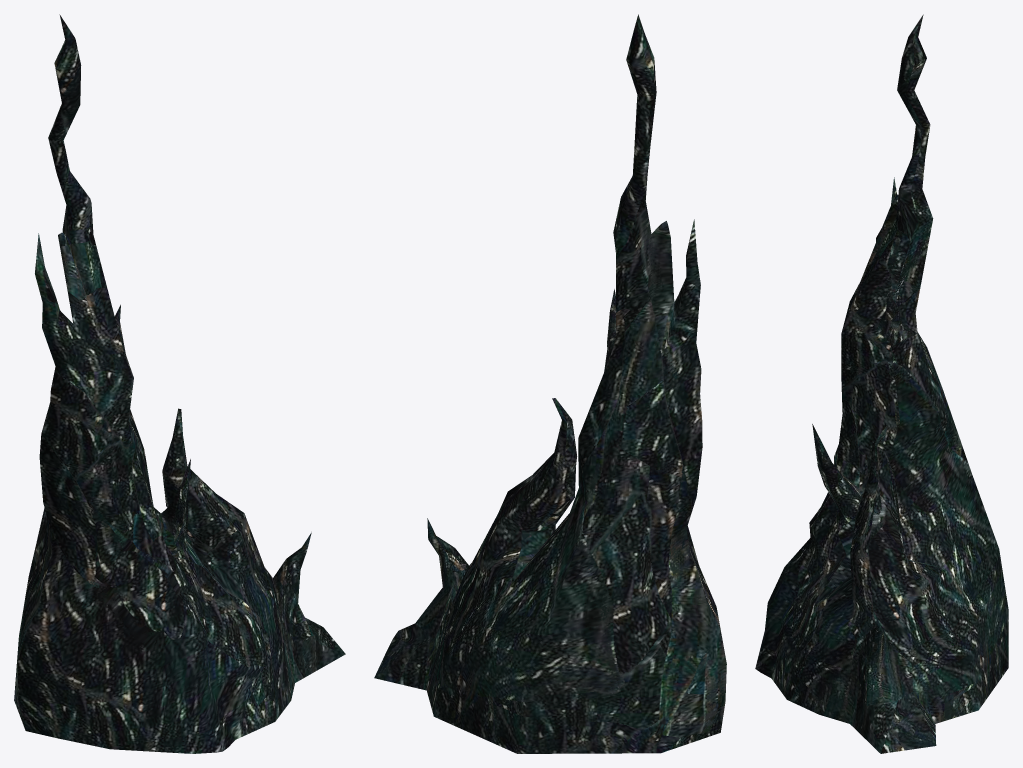
File: shu.fbx
3 views of the same model, side by side, from view 1: azimuth 30°, elevation 25°; view 2: azimuth 150°, elevation 25°; view 3: azimuth 270°, elevation 25° (orthographic). The views are drawn at different scales.
Visible parts, largest first — view 1: shu; view 2: shu; view 3: shu.
Part boxes in pixels (x1,y1,x2,y2): shu: (14,14,345,753); shu: (374,14,726,753); shu: (755,14,1008,753).
Size of the model in its own units: 12.76 by 25.7 by 9.47.
